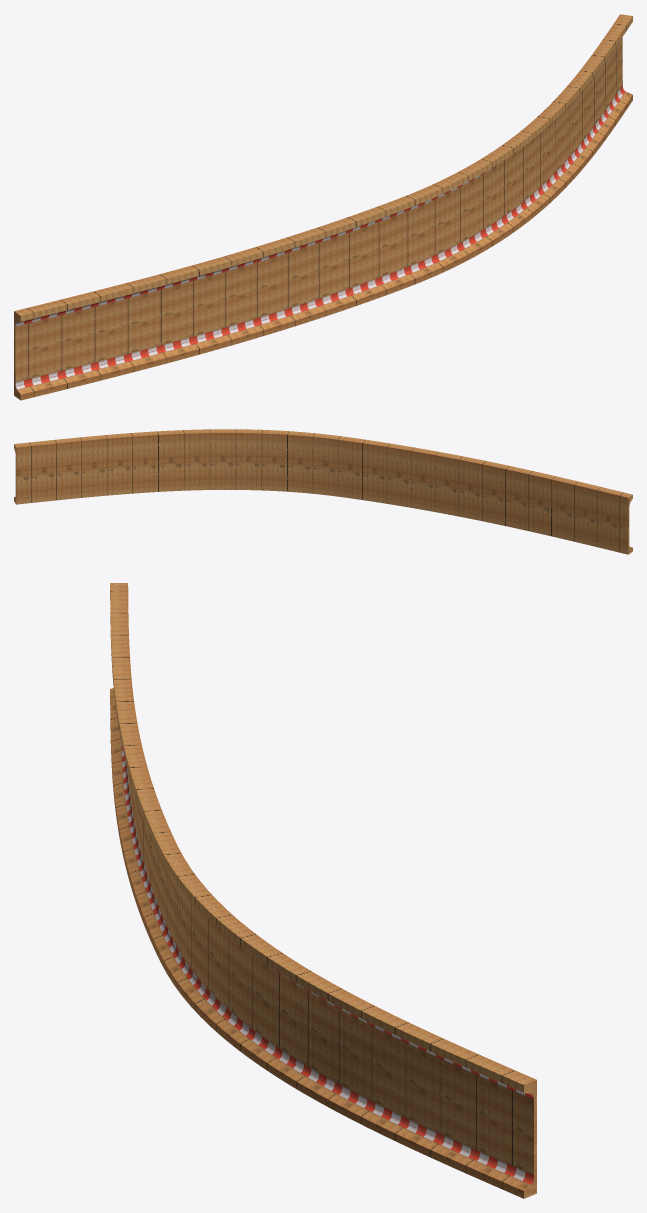
File: SAMRTrack-11.fbx
3 renders of one model, top to bottom at view 1: azimuth 30°, elevation 25°; view 2: azimuth 150°, elevation 25°; view 3: azimuth 270°, elevation 25°, orthographic. The views are drawn at different scales.
Visible parts, largest first — view 1: SAMRTrack-11; view 2: SAMRTrack-11; view 3: SAMRTrack-11.
Part boxes in pixels (x1,y1,x2,y2): SAMRTrack-11: (14, 14, 632, 400); SAMRTrack-11: (14, 429, 632, 554); SAMRTrack-11: (110, 583, 536, 1198).
Bounding box in the file's own units: 274 × 29.1 × 98.12.
Materials: 2 (2 with a texture image).
